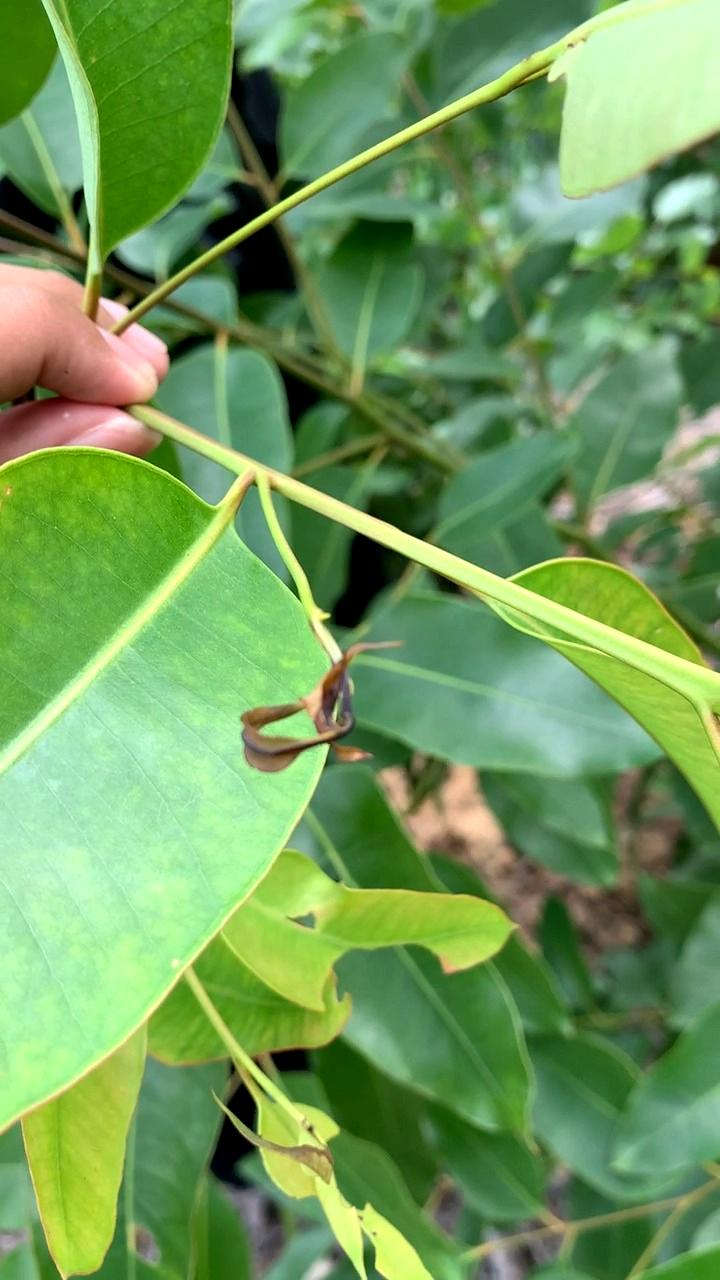Helopeltis-Withered Sprout: (236, 640, 401, 771)
